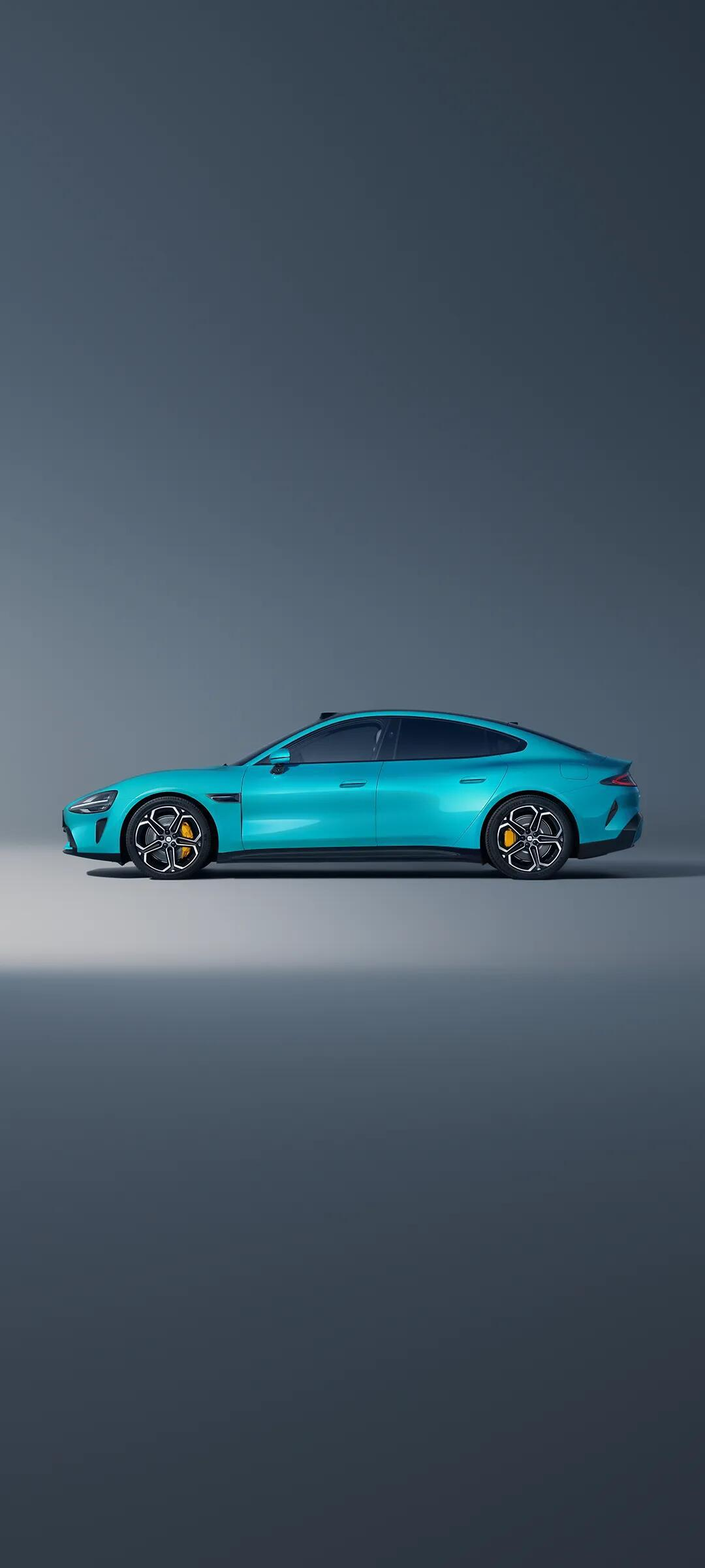su7: (55, 704, 656, 889)
